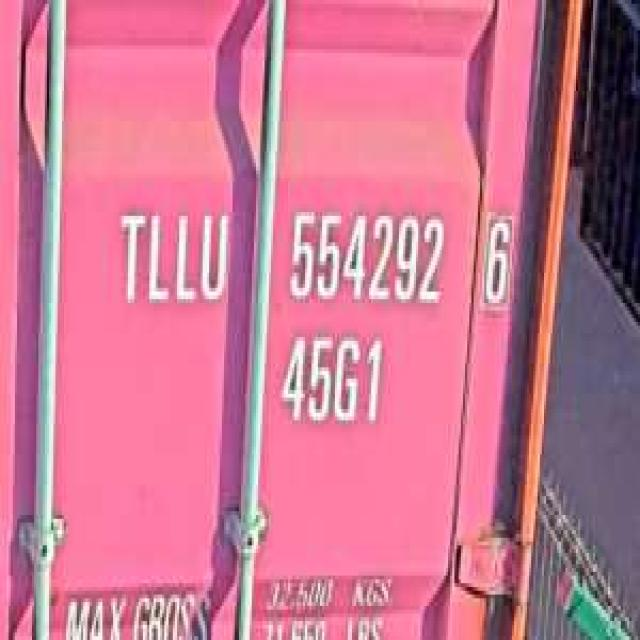dv: (476, 197, 516, 314)
owner: (111, 197, 230, 310)
serial: (282, 200, 448, 310)
size: (277, 329, 388, 432)
